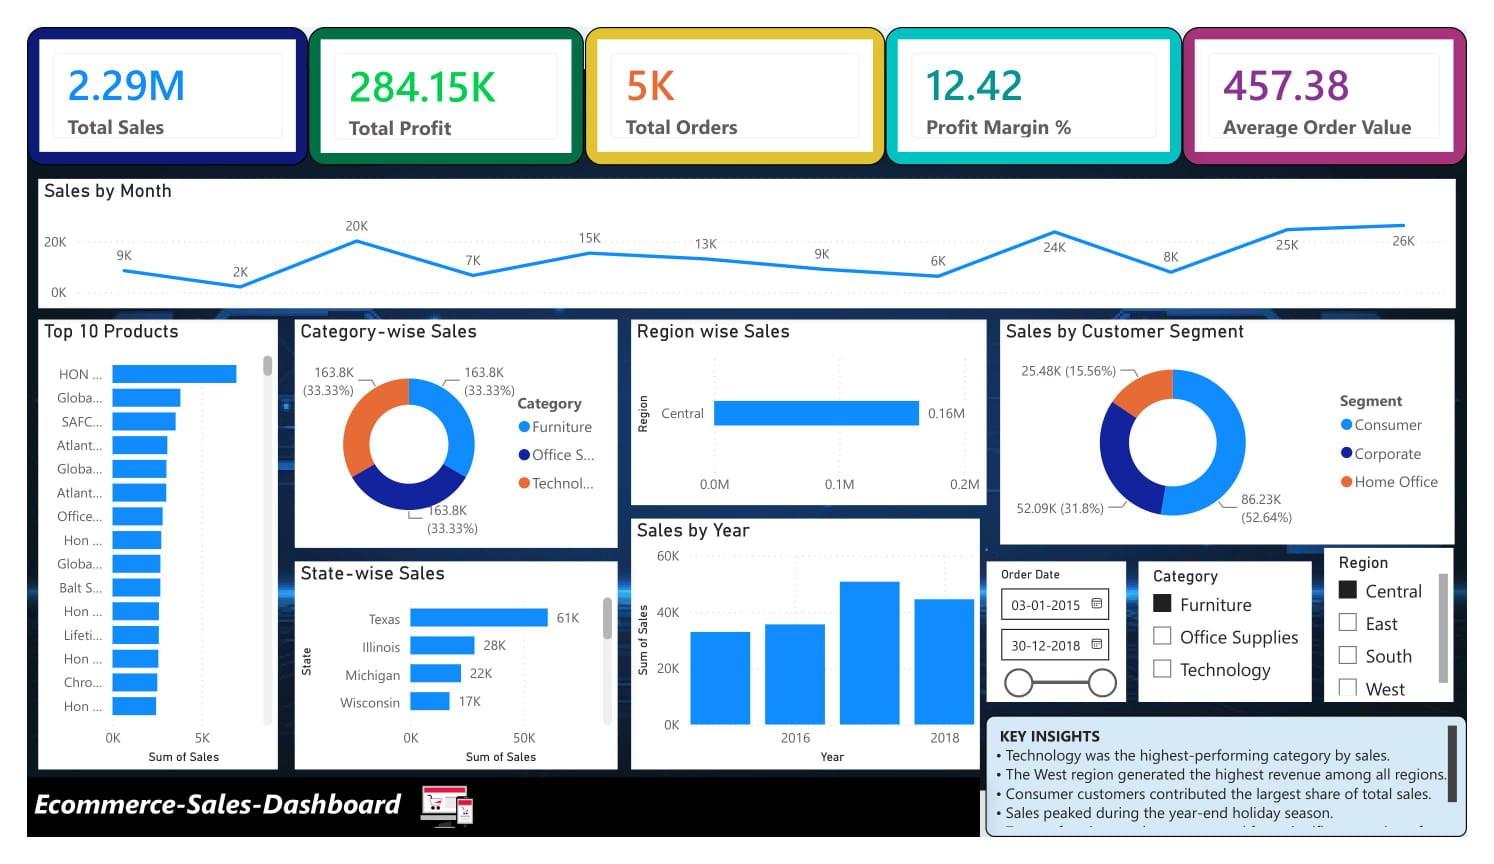

The dashboard page shown, as its layout file describes it:
{"tool":"powerbi","page":{"name":"Page 1","canvas":[1280,720],"ordinal":0},"visuals":[{"type":"cardVisual","fields":{"Data":["Orders.Total Sales"]},"box":[0,0,250,122.9],"z":0},{"type":"cardVisual","fields":{"Data":["Orders.Total Profit"]},"box":[250,0,245.7,122.9],"z":1000},{"type":"cardVisual","fields":{"Data":["Orders.Total Orders"]},"box":[495.7,0,267.1,122.9],"z":2000},{"type":"cardVisual","fields":{"Data":["Orders.Average Order Value"]},"box":[1027.1,0,252.9,122.9],"z":3000},{"type":"cardVisual","fields":{"Data":["Orders.Profit Margin %"]},"box":[762.9,0,264.3,122.9],"z":4000},{"type":"lineClusteredColumnComboChart","title":"Sales by Year","fields":{"Y":["Sum(Orders1.Sales)"],"Category":["Orders1.Order Date.Variation.Date Hierarchy.Year","Orders1.Order Date.Variation.Date Hierarchy.Quarter","Orders1.Order Date.Variation.Date Hierarchy.Month","Orders1.Order Date.Variation.Date Hierarchy.Day"]},"box":[628.8,436.2,217.5,282.5],"z":5000},{"type":"clusteredBarChart","title":"Top 10 Products","fields":{"Category":["Orders1.Product Name"],"Y":["Sum(Orders1.Sales)"]},"box":[0,253.8,230,465],"z":6000},{"type":"clusteredBarChart","title":"Region wise Sales","fields":{"Category":["Orders1.Region"],"Y":["Sum(Orders1.Sales)"]},"box":[482.5,266.2,467.5,170],"z":7000},{"type":"donutChart","title":"Sales by Customer Segment","fields":{"Category":["Orders1.Segment"],"Y":["Sum(Orders1.Sales)"]},"box":[950,260,330,200],"z":8000},{"type":"clusteredBarChart","title":"State-wise Sales","fields":{"Category":["Orders1.State"],"Y":["Sum(Orders1.Sales)"]},"box":[180,460,438.3,258.3],"z":9000},{"type":"slicer","fields":{"Values":["Orders1.Order Date"]},"box":[852.5,476.2,136.2,123.8],"z":10000},{"type":"slicer","fields":{"Values":["Orders1.Region"]},"box":[1152.9,452.9,115.7,147.1],"z":11000},{"type":"slicer","title":"Category wise Sales","fields":{"Values":["Orders1.Category"]},"box":[988.6,475.7,164.3,124.3],"z":12000},{"type":"lineChart","title":"Sales by Month","fields":{"Category":["Orders1.Order Date.Variation.Date Hierarchy.Month"],"Y":["Sum(Orders1.Sales)"]},"box":[0,122.9,1278.6,131.4],"z":13000},{"type":"donutChart","title":"Category-wise Sales","fields":{"Category":["Orders.Category"],"Y":["Sum(Orders1.Sales)"]},"box":[180,256.2,302.5,200],"z":14000},{"type":"textbox","box":[852,600,428,120],"z":15000}]}

Visuals, with their boxes in screenshot pixels (x1, y1, x2, y2), scaled from the page's 1280x720 canvas onto the 1494x864 screenshot:
cardVisual - Orders.Total Sales: pyautogui.locateOnScreen(0, 0, 292, 147)
cardVisual - Orders.Total Profit: pyautogui.locateOnScreen(292, 0, 579, 147)
cardVisual - Orders.Total Orders: pyautogui.locateOnScreen(579, 0, 890, 147)
cardVisual - Orders.Average Order Value: pyautogui.locateOnScreen(1199, 0, 1493, 147)
cardVisual - Orders.Profit Margin %: pyautogui.locateOnScreen(890, 0, 1199, 147)
"Sales by Year" lineClusteredColumnComboChart: pyautogui.locateOnScreen(734, 523, 988, 862)
"Top 10 Products" clusteredBarChart: pyautogui.locateOnScreen(0, 305, 268, 863)
"Region wise Sales" clusteredBarChart: pyautogui.locateOnScreen(563, 319, 1109, 523)
"Sales by Customer Segment" donutChart: pyautogui.locateOnScreen(1109, 312, 1493, 552)
"State-wise Sales" clusteredBarChart: pyautogui.locateOnScreen(210, 552, 722, 862)
slicer - Orders1.Order Date: pyautogui.locateOnScreen(995, 571, 1154, 720)
slicer - Orders1.Region: pyautogui.locateOnScreen(1346, 543, 1481, 720)
"Category wise Sales" slicer: pyautogui.locateOnScreen(1154, 571, 1346, 720)
"Sales by Month" lineChart: pyautogui.locateOnScreen(0, 147, 1492, 305)
"Category-wise Sales" donutChart: pyautogui.locateOnScreen(210, 307, 563, 547)
textbox: pyautogui.locateOnScreen(994, 720, 1493, 863)
